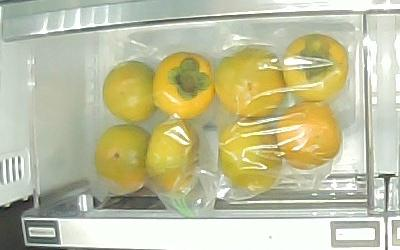persimmon_vinyl: (214, 47, 286, 118), (277, 99, 342, 169), (218, 120, 282, 191), (151, 50, 215, 121), (281, 34, 349, 99), (145, 121, 200, 195), (95, 124, 151, 195), (102, 61, 156, 122)
